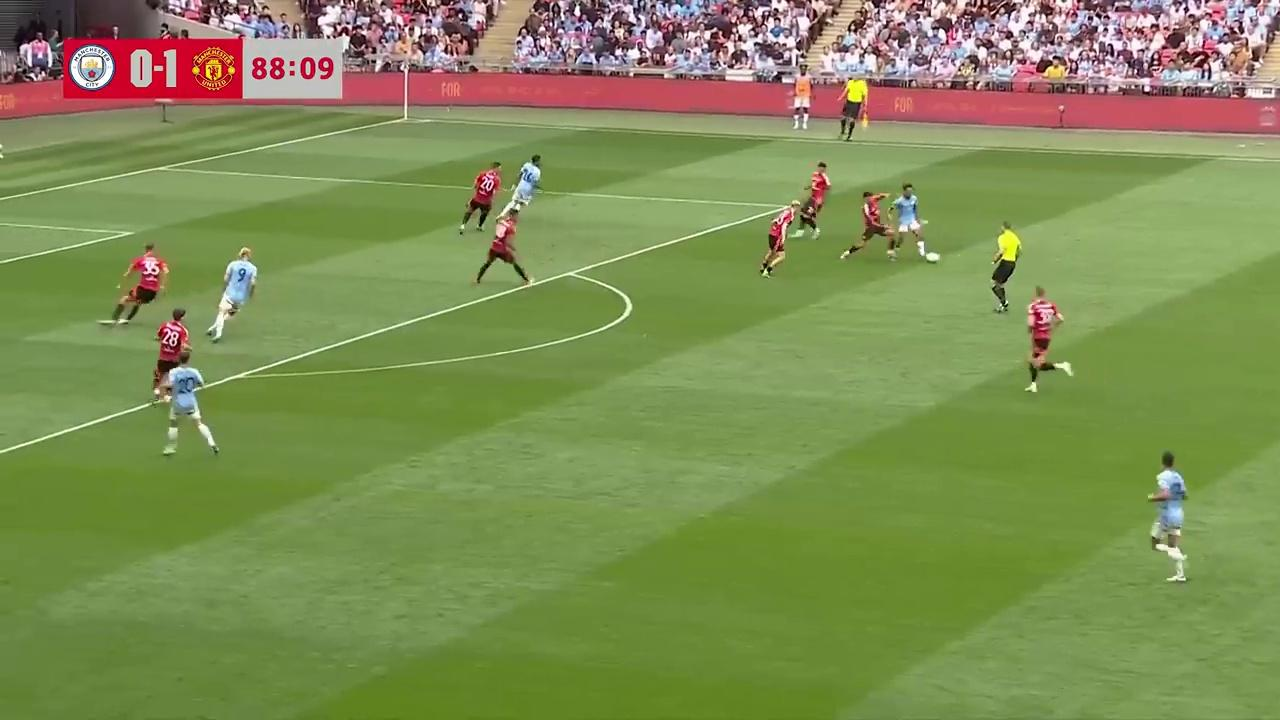ball: (926, 248, 941, 263)
player: (157, 355, 220, 457), (1147, 451, 1189, 583), (1024, 286, 1075, 392), (203, 246, 258, 341), (471, 203, 530, 288), (112, 242, 169, 320), (842, 189, 899, 260), (152, 308, 192, 400), (892, 182, 933, 256), (458, 163, 500, 235), (798, 161, 831, 239), (758, 211, 790, 278), (511, 155, 542, 212)
referee: (989, 222, 1022, 314), (837, 78, 869, 143)
